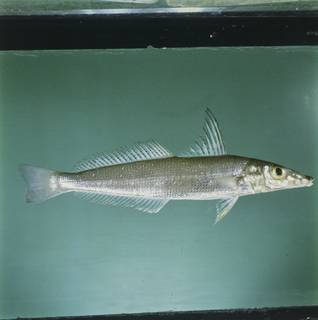kiss: (14, 135, 317, 221)
